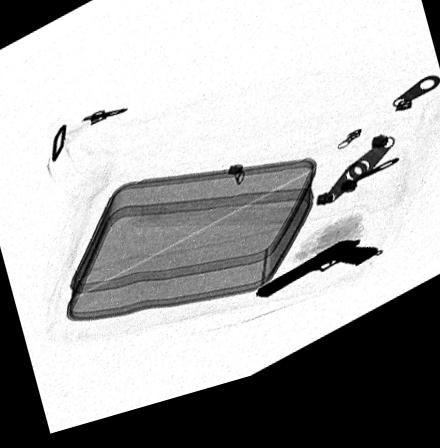Gun: (255, 259, 377, 311)
